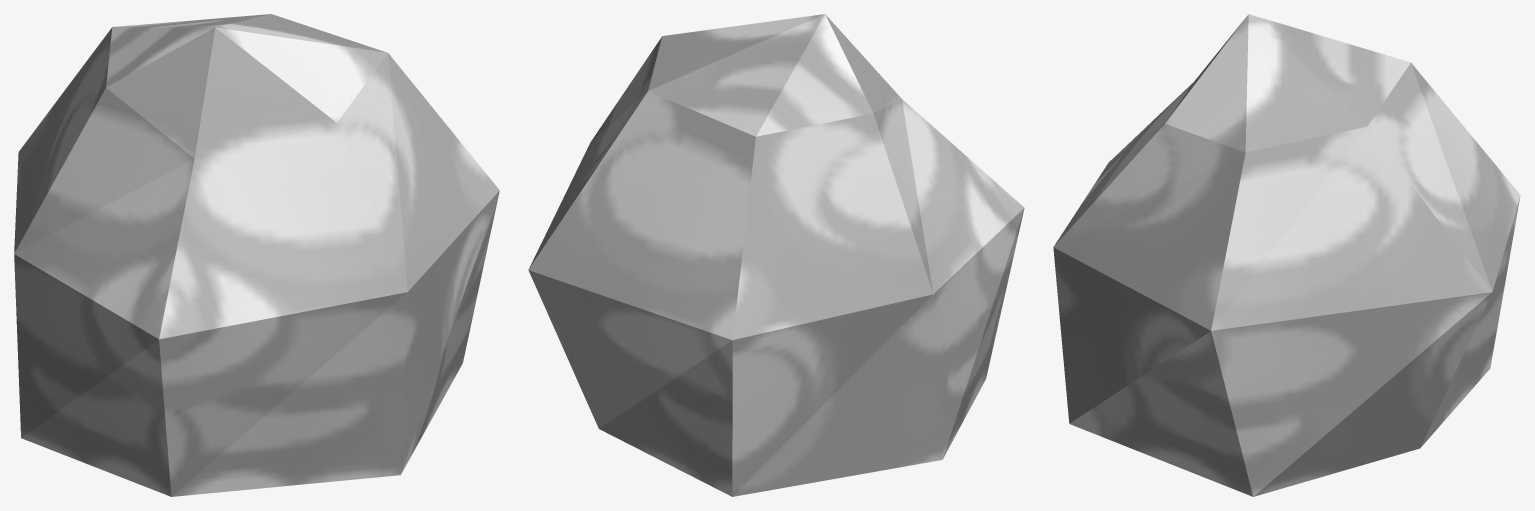
The model's file is smokeleaf.obj.
The picture shows the model from 3 angles, left to right: view 1: azimuth 30°, elevation 25°; view 2: azimuth 150°, elevation 25°; view 3: azimuth 270°, elevation 25°; orthographic projection. The views are drawn at different scales.
Parts seen in each view (by area): view 1: smokeleaf; view 2: smokeleaf; view 3: smokeleaf.
Boxes of the visible parts, x1,y1,x2,y2 form: smokeleaf: (14,14,499,496); smokeleaf: (528,14,1024,496); smokeleaf: (1053,14,1520,496).
Bounding box in the file's own units: 0.5101 × 0.46 × 0.5267.
